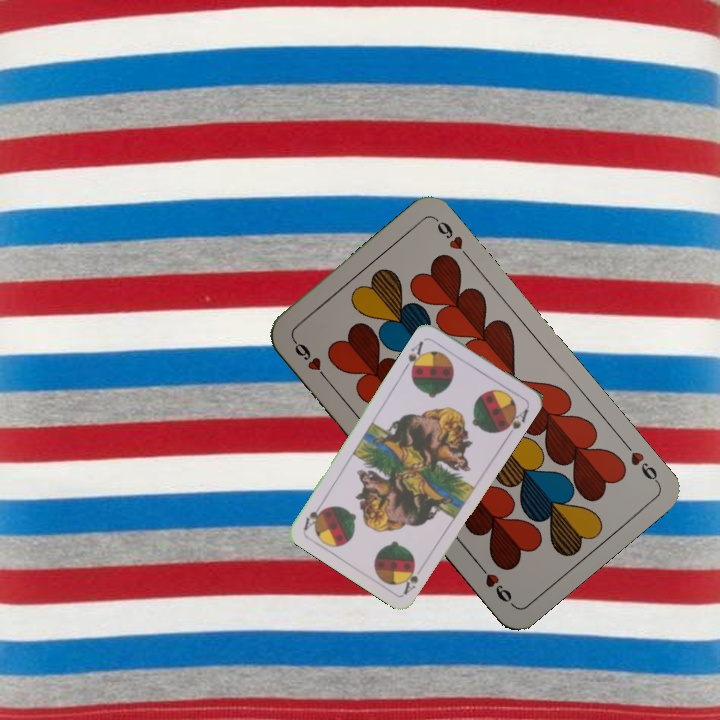H9: (288, 335, 331, 384), (619, 437, 662, 486)
SA: (401, 337, 428, 375), (399, 560, 421, 597)
